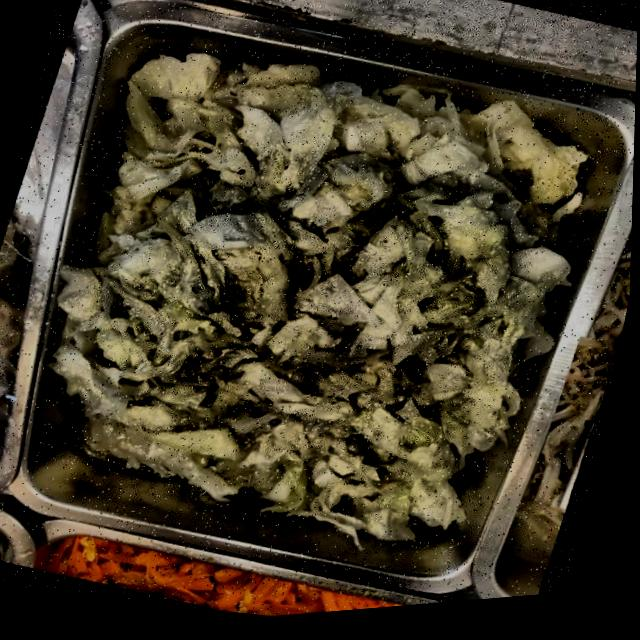Food: (22, 20, 584, 577), (62, 511, 437, 635), (528, 340, 623, 525)
